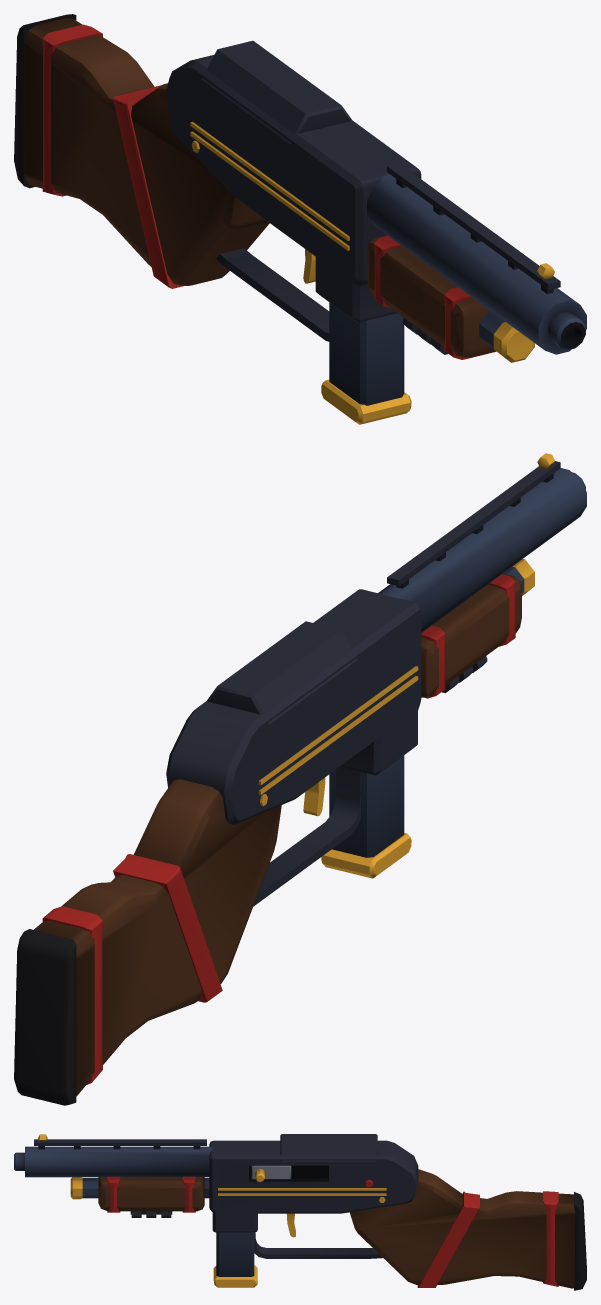
The model's file is the_audit.glb.
The picture shows the model from 3 angles, top to bottom: view 1: azimuth 30°, elevation 25°; view 2: azimuth 150°, elevation 25°; view 3: azimuth 270°, elevation 25°; orthographic projection. The views are drawn at different scales.
Parts seen in each view (by area): view 1: frame, mag; view 2: frame, mag; view 3: frame, mag, bolt.
Boxes of the visible parts, <box> form: frame: <box>14,14,586,362</box>; mag: <box>321,302,411,424</box>; frame: <box>14,453,586,1105</box>; mag: <box>321,755,411,878</box>; frame: <box>14,1134,586,1290</box>; mag: <box>213,1232,257,1287</box>; bolt: <box>251,1165,291,1182</box>.
Bounding box in the file's own units: 0.2435 × 0.7457 × 2.58.
1 material, 1 textured.
